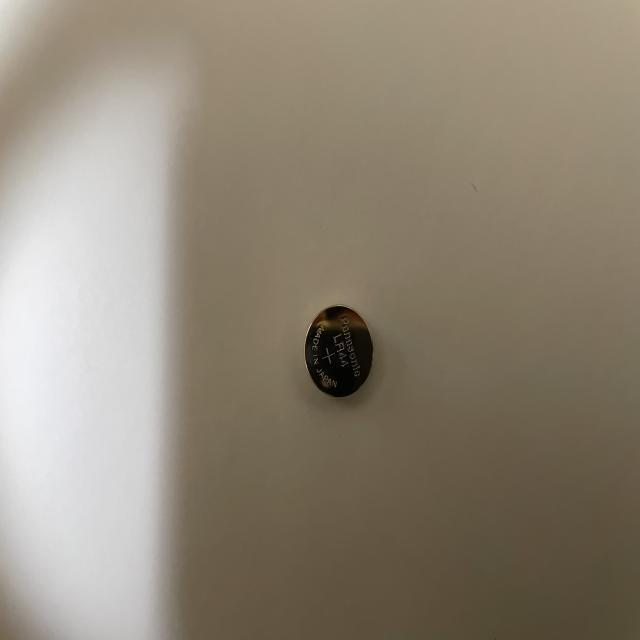COIN: (302, 303, 374, 401)
